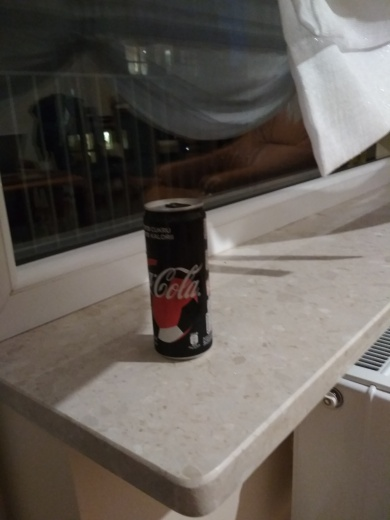colazero: (136, 187, 224, 376)
